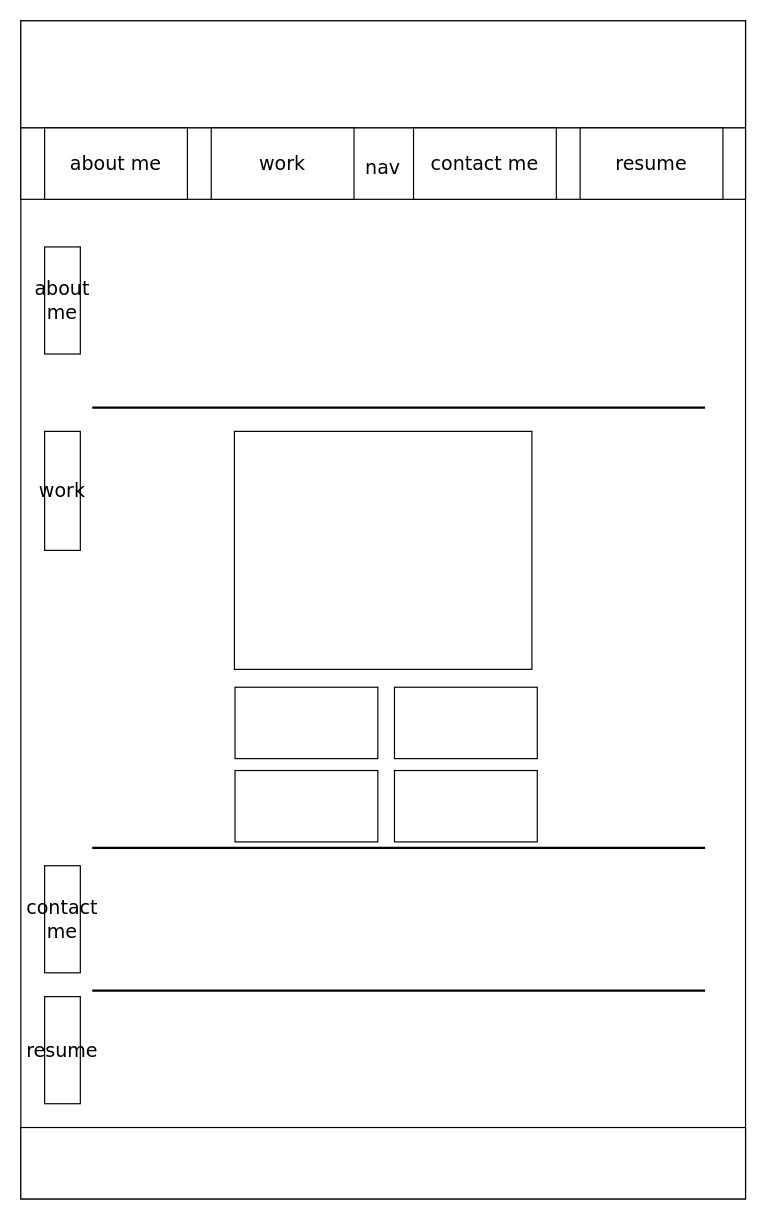
This 766x1220 diagram has some shape labels left out. The shapes that lost their labels are listed below. From the top down, each one's centre as x and y in pixels, then its label:
[383,74]: header
[383,1162]: footer
